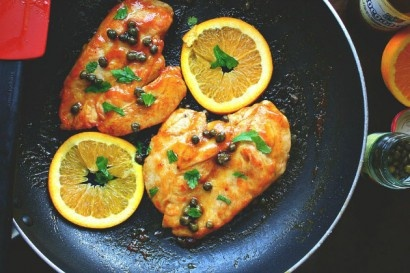background: (30, 0, 186, 102), (19, 10, 262, 46)
